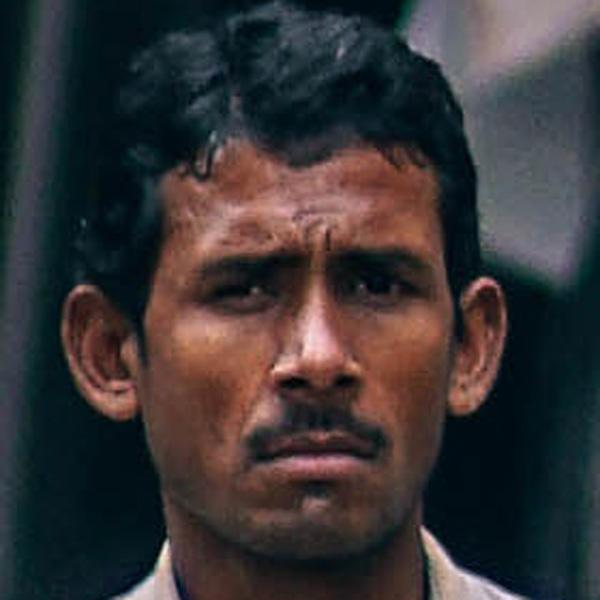Eyes: (196, 267, 289, 316), (342, 264, 421, 309)
